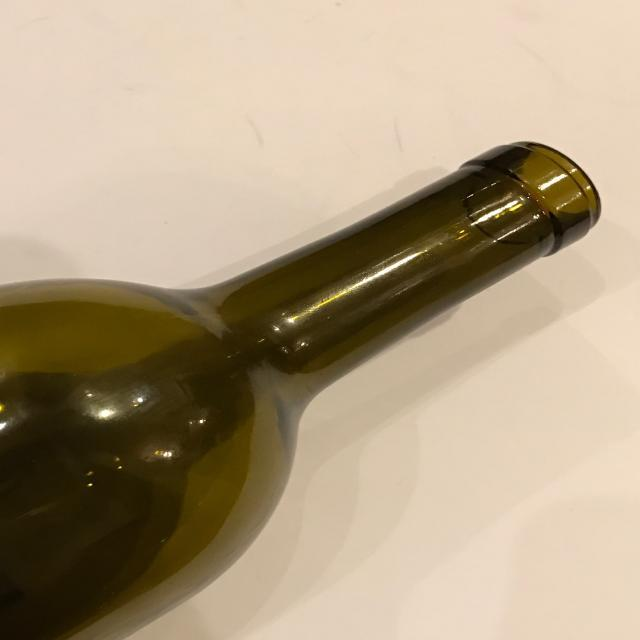glass: (3, 143, 603, 640)
